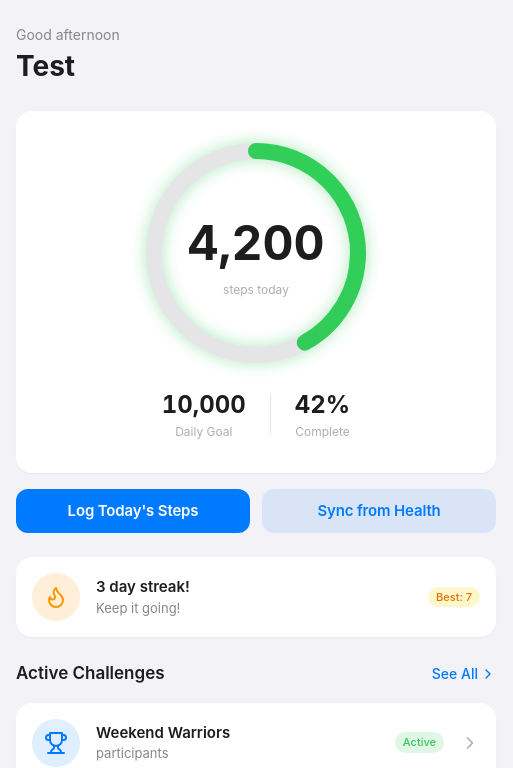
Dashboard Sync › manual sync shows success toast with step count
Click the button "Sync from Health" at (379, 511), box top-left (262, 489), bottom-right (496, 533)
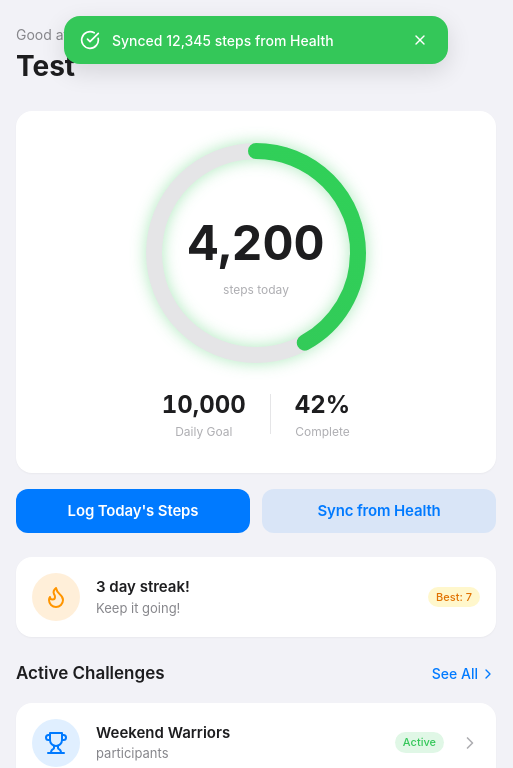
Now the text "Synced 12,345 steps from Health" is shown, box top-left (112, 32), bottom-right (334, 48)
